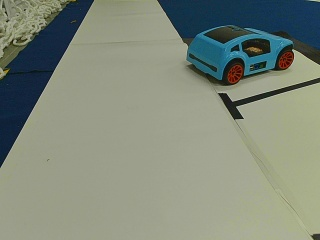car: (187, 26, 294, 83)
